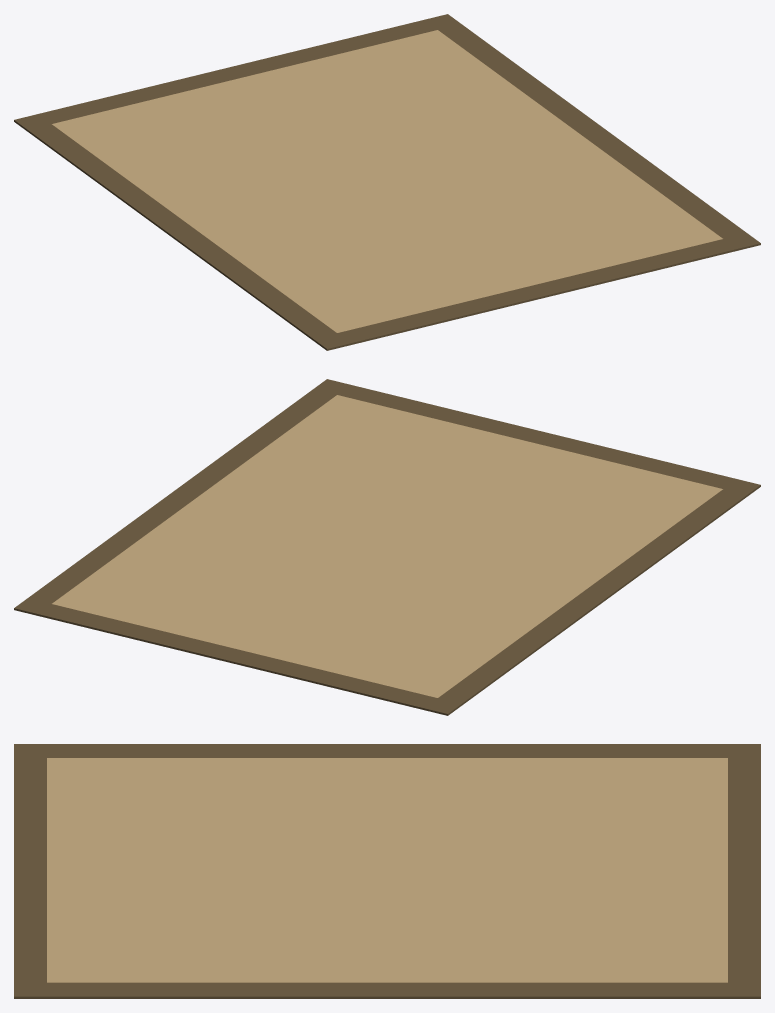
Rendered from Living_Room_Carpet.FBX.
3 views of the same model, one above another, from view 1: azimuth 30°, elevation 25°; view 2: azimuth 150°, elevation 25°; view 3: azimuth 270°, elevation 25° (orthographic). The views are drawn at different scales.
Parts seen in each view (by area): view 1: carpet; view 2: carpet; view 3: carpet.
Part boxes in pixels (x1,y1,x2,y2): carpet: (14,14,760,350); carpet: (14,379,760,715); carpet: (14,744,760,998).
Bounding box in the file's own units: 2.4 × 0.01 × 3.
